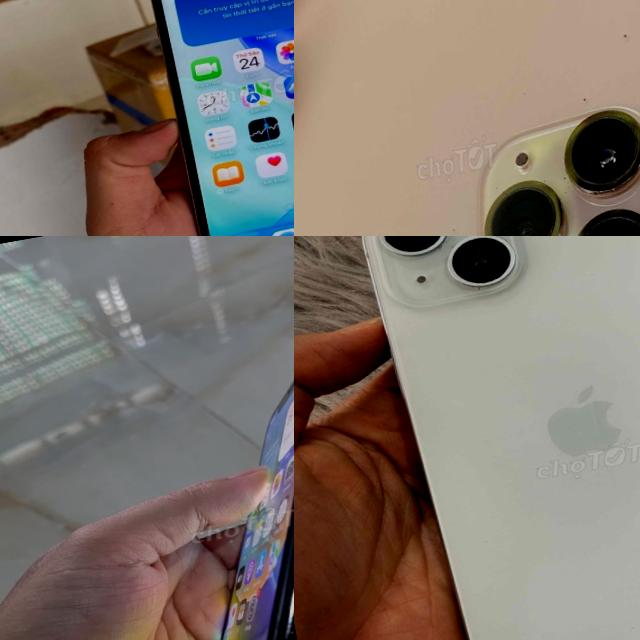gen_11: (294, 0, 640, 236)
gen_12_13: (149, 0, 294, 236)
gen_15: (345, 236, 640, 640)
gen_x_xs: (219, 379, 294, 640)
